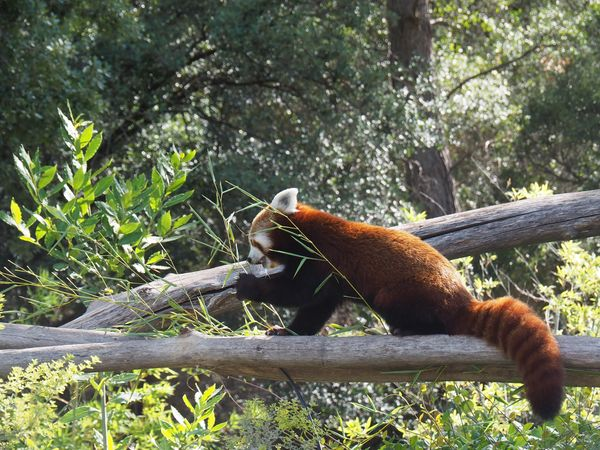red_panda: (232, 185, 568, 423)
